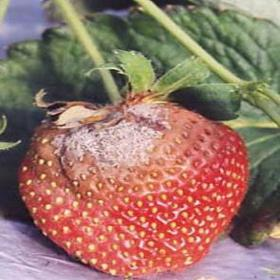Gray Mold: (21, 89, 249, 205)
